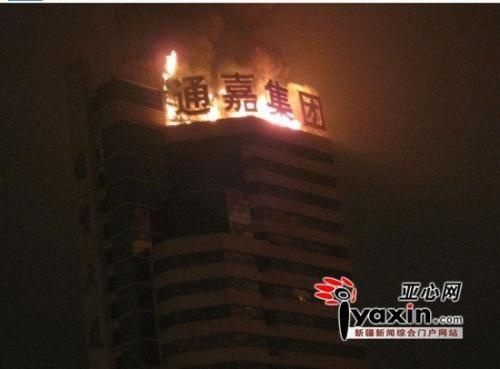fire: (155, 49, 312, 128)
